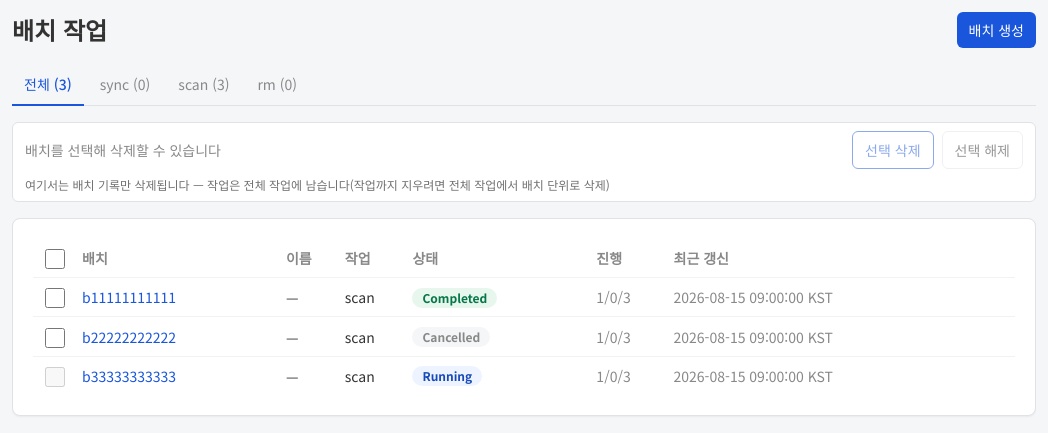
Test: 전체 선택은 선택 가능 행만 토글 — 일부만 선택되면 indeterminate
Click the checkbox named "배치 b11111111111 선택" at (55, 298), box x1=45 y1=288 x2=65 y2=308
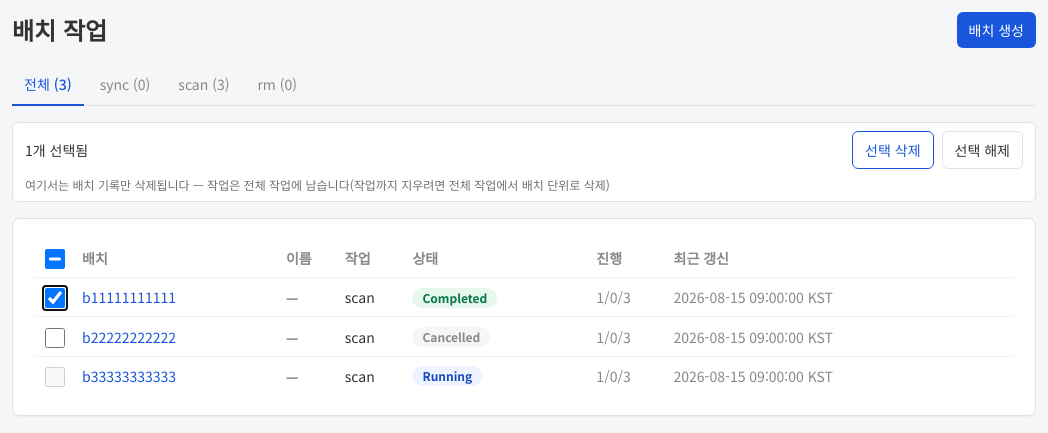
Click the checkbox named "전체 선택" at (55, 259), box x1=45 y1=249 x2=65 y2=269
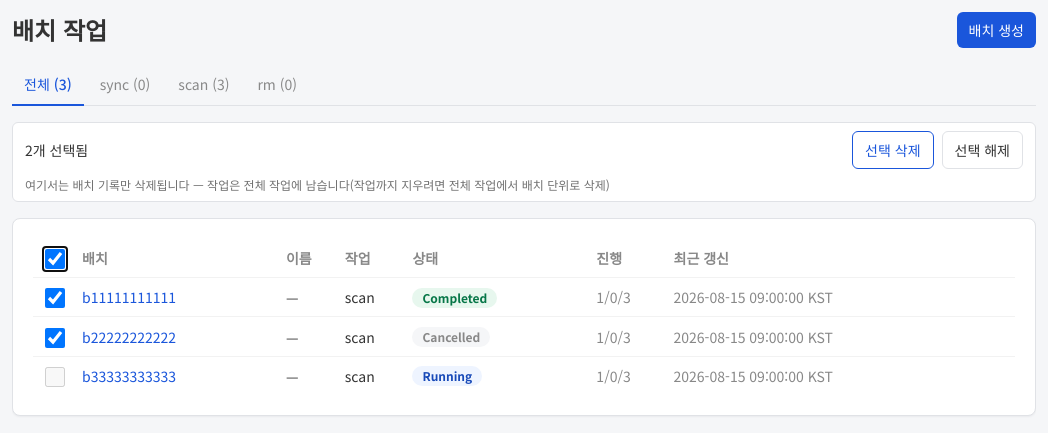
Expected: the text "2개 선택됨" is shown, x1=25 y1=140 x2=88 y2=160
Click the checkbox named "전체 선택" at (55, 259), box x1=45 y1=249 x2=65 y2=269
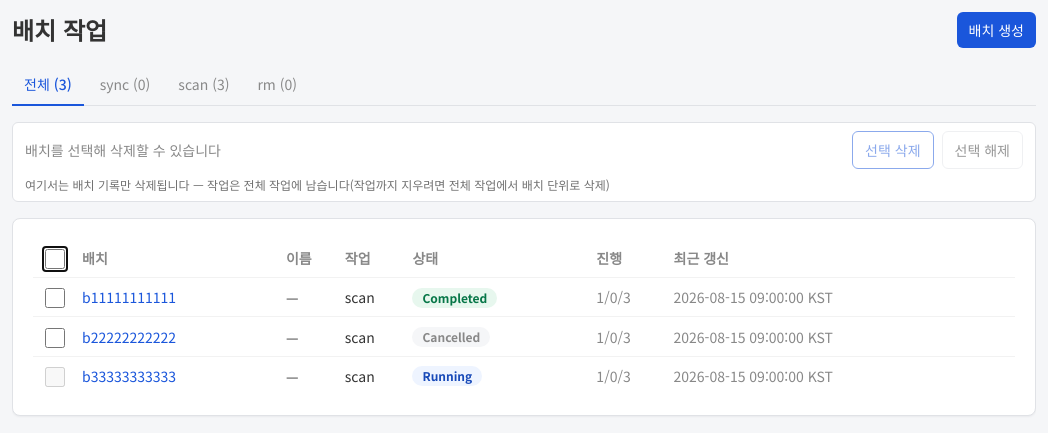
Expected: the text "개 선택됨" is gone
